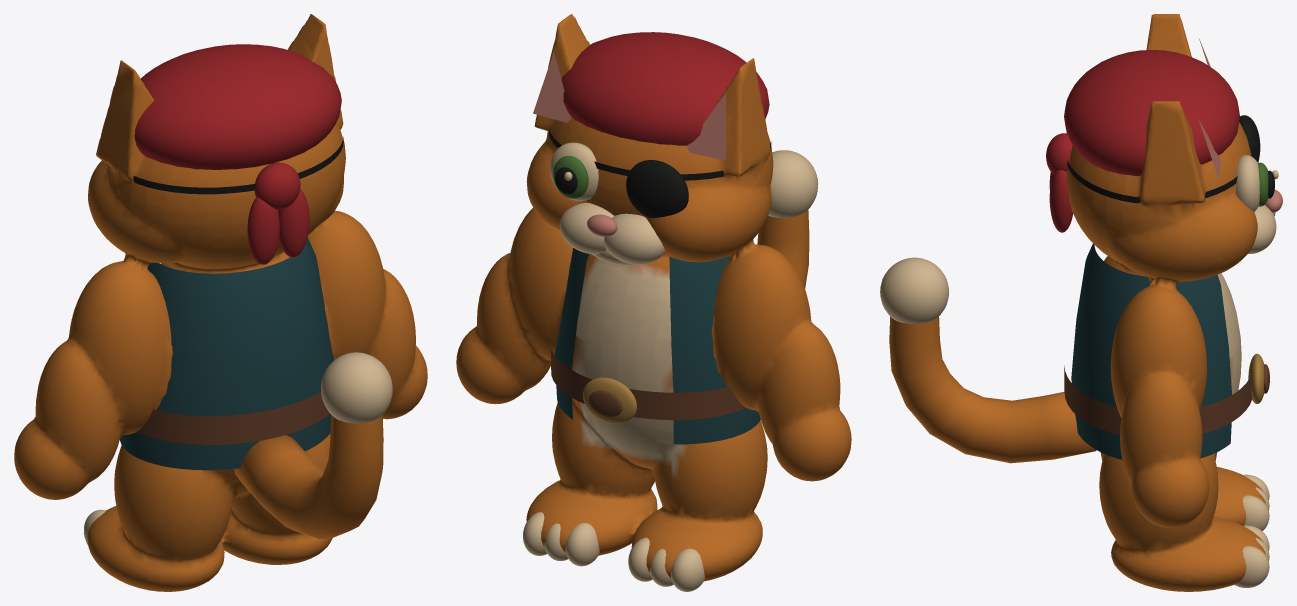
3 views of the same model, side by side, from view 1: azimuth 30°, elevation 25°; view 2: azimuth 150°, elevation 25°; view 3: azimuth 270°, elevation 25° (orthographic). The views are drawn at different scales.
Size of the model in its own units: 0.9495 by 1.2 by 0.874.
